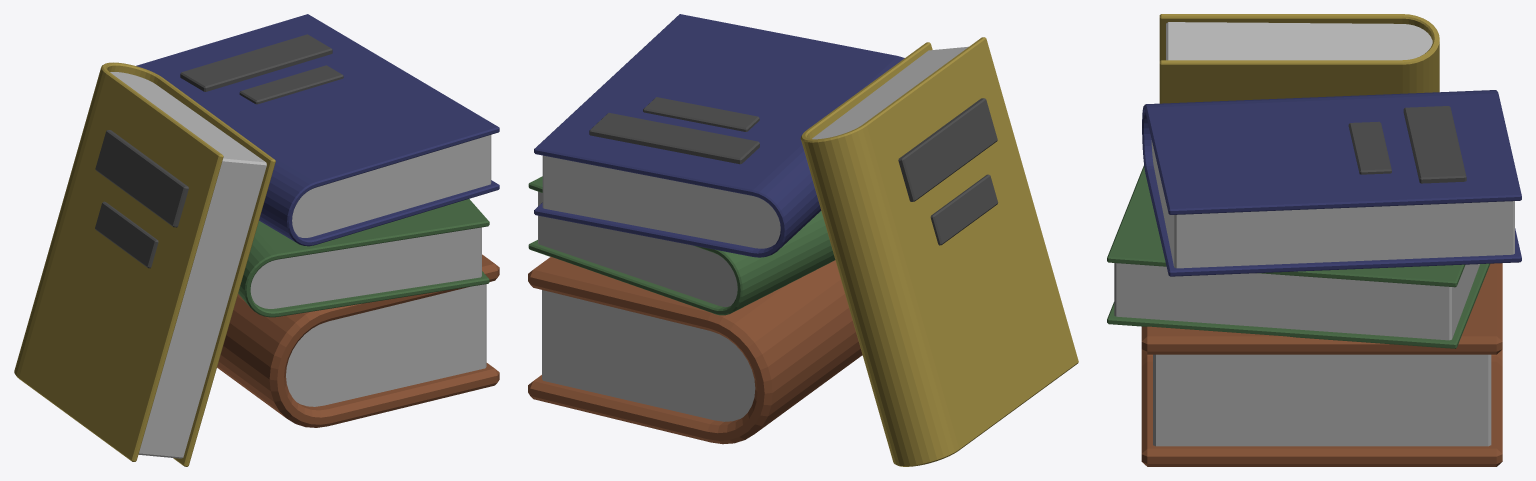
Rendered from Books.fbx.
The picture shows the model from 3 angles, left to right: view 1: azimuth 30°, elevation 25°; view 2: azimuth 150°, elevation 25°; view 3: azimuth 270°, elevation 25°; orthographic projection. The views are drawn at different scales.
Visible parts, largest first — view 1: Cylinder.003, Cylinder.002, Cylinder, Cylinder.001; view 2: Cylinder.003, Cylinder.002, Cylinder, Cylinder.001; view 3: Cylinder.002, Cylinder, Cylinder.001, Cylinder.003.
Part boxes in pixels (box(x1,y1,x2,y2)): Cylinder.003: box(14, 62, 275, 466); Cylinder.002: box(136, 14, 499, 246); Cylinder: box(217, 254, 499, 427); Cylinder.001: box(238, 199, 489, 317); Cylinder.003: box(800, 37, 1078, 466); Cylinder.002: box(534, 14, 904, 257); Cylinder: box(528, 257, 862, 444); Cylinder.001: box(528, 176, 835, 315); Cylinder.002: box(1142, 90, 1521, 276); Cylinder: box(1141, 263, 1502, 466); Cylinder.001: box(1107, 166, 1490, 348); Cylinder.003: box(1159, 14, 1439, 103).
Bounding box in the file's own units: 311 × 238 × 274.
